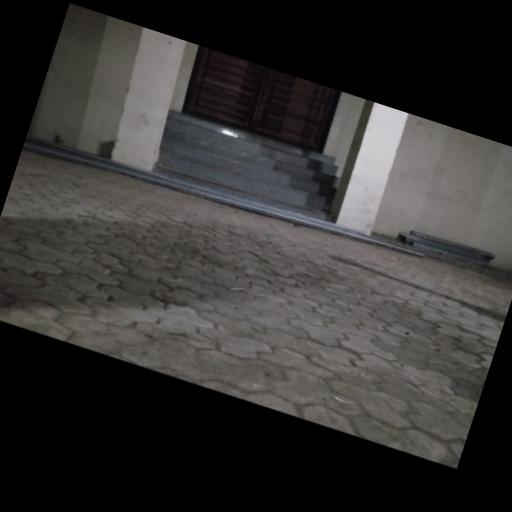stairs: (156, 112, 336, 221)
